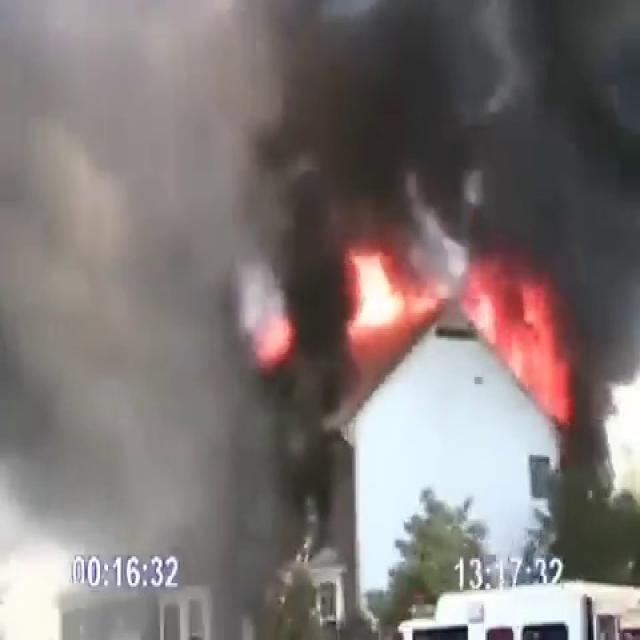Fire: (476, 258, 576, 425), (339, 234, 429, 346)
Smoke: (8, 0, 640, 452), (0, 1, 304, 637)
